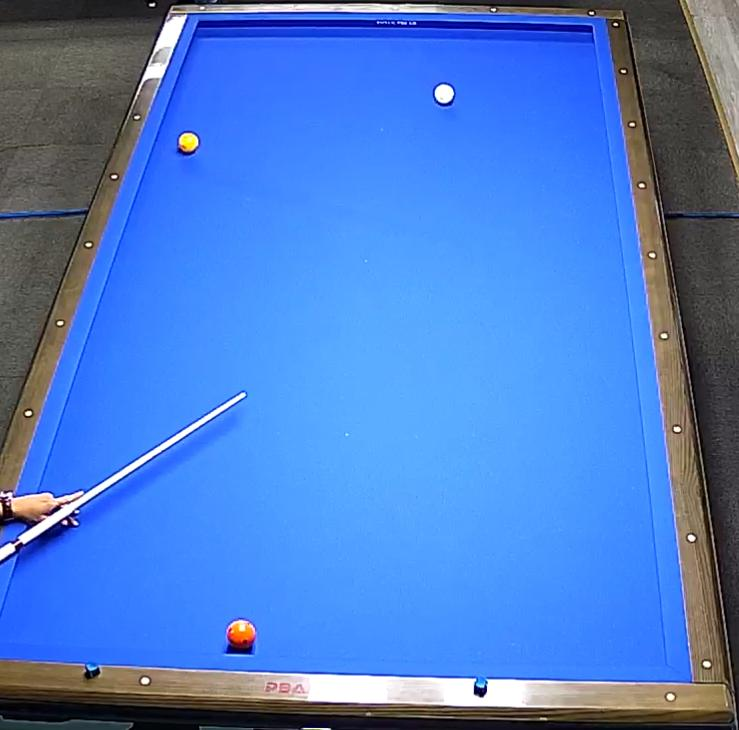orange ball: (221, 617, 263, 653)
white ball: (433, 79, 455, 113)
yellow ball: (171, 127, 204, 161)
